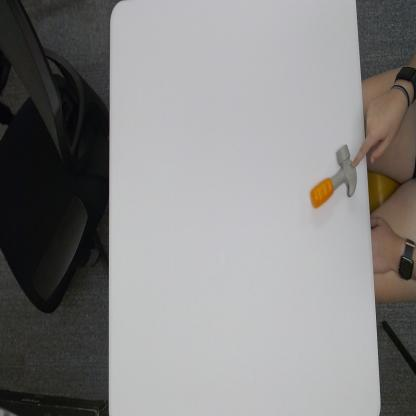Hammer: (310, 144, 357, 208)
Hand: (352, 86, 408, 168)
